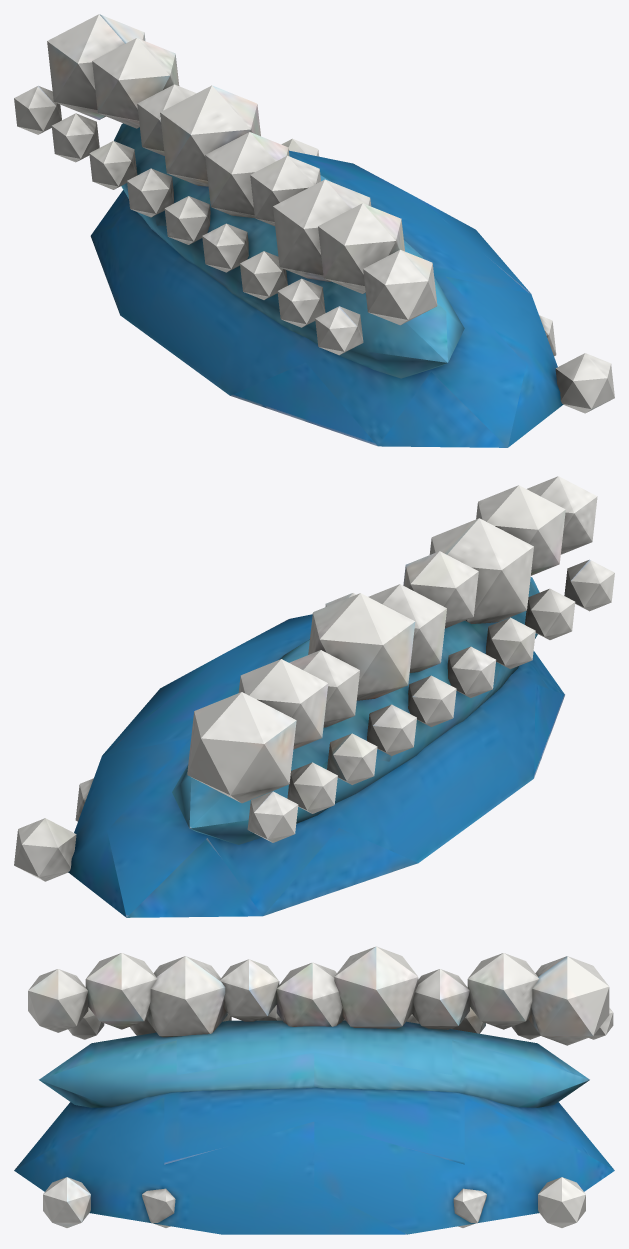
File: ola.glb
The picture shows the model from 3 angles, top to bottom: view 1: azimuth 30°, elevation 25°; view 2: azimuth 150°, elevation 25°; view 3: azimuth 270°, elevation 25°; orthographic projection. The views are drawn at different scales.
Parts seen in each view (by area): view 1: ola; view 2: ola; view 3: ola.
Part boxes in pixels (box(x1,y1,x2,y2)): ola: box(14, 14, 614, 447); ola: box(14, 476, 614, 917); ola: box(14, 946, 614, 1234).
Size of the model in its own units: 1.71 by 1.27 by 3.4.
Materials: 1 (1 with a texture image).
